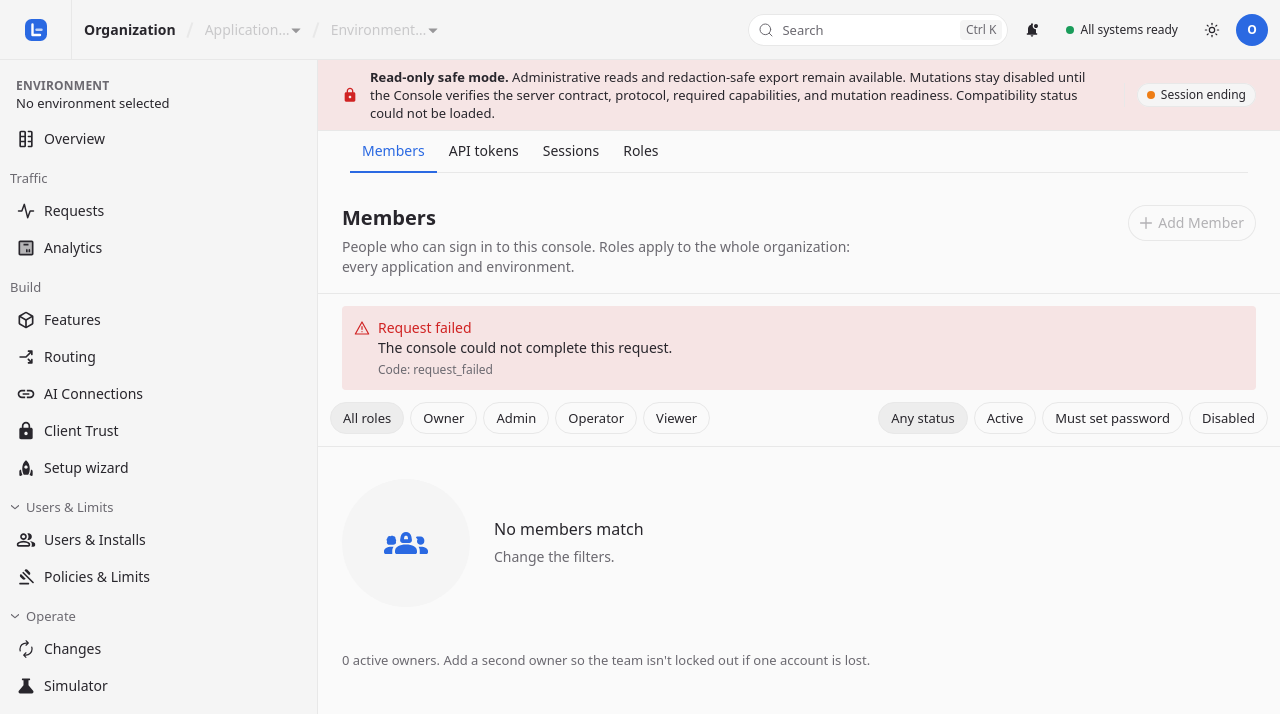
Test: AppShell › lets an owner preview the console as another role, read-only, and exit
The image size is (1280, 714).
Click the button named "Your account".
click(1252, 30)  # box [1236,14,1268,46]
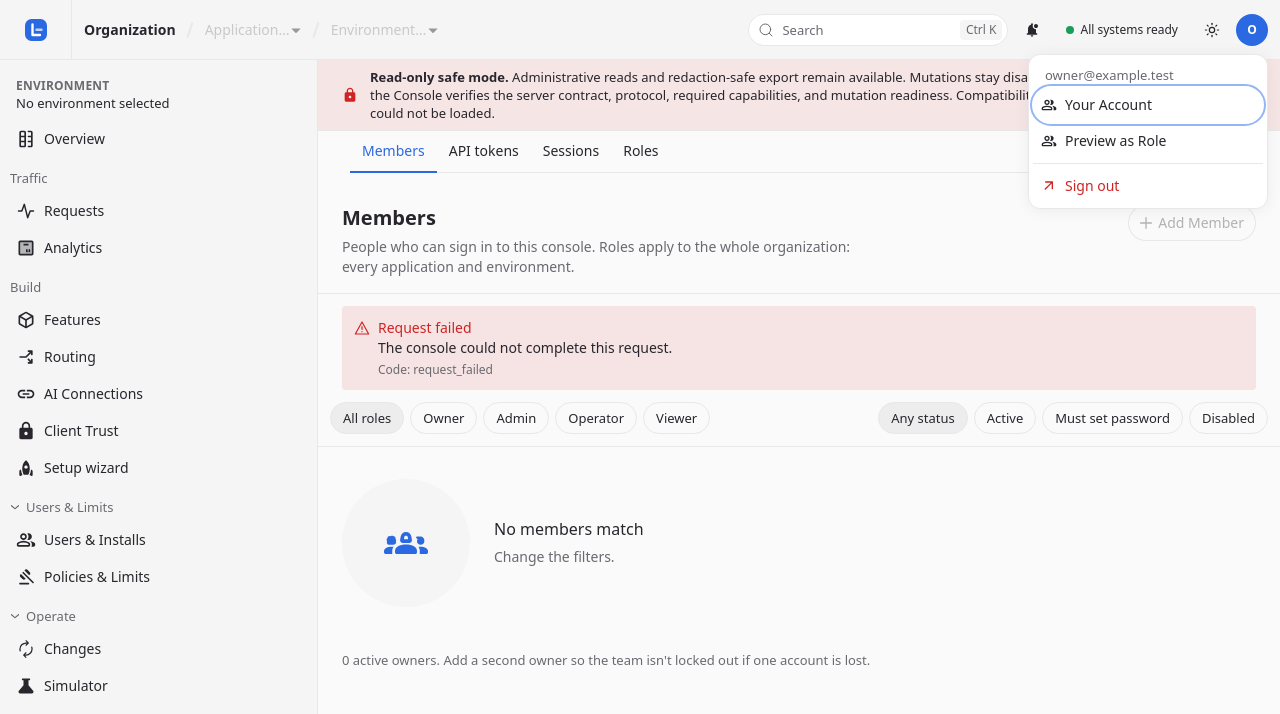
Click the menu item "Preview as Role".
click(1148, 140)  # box [1033,122,1263,158]
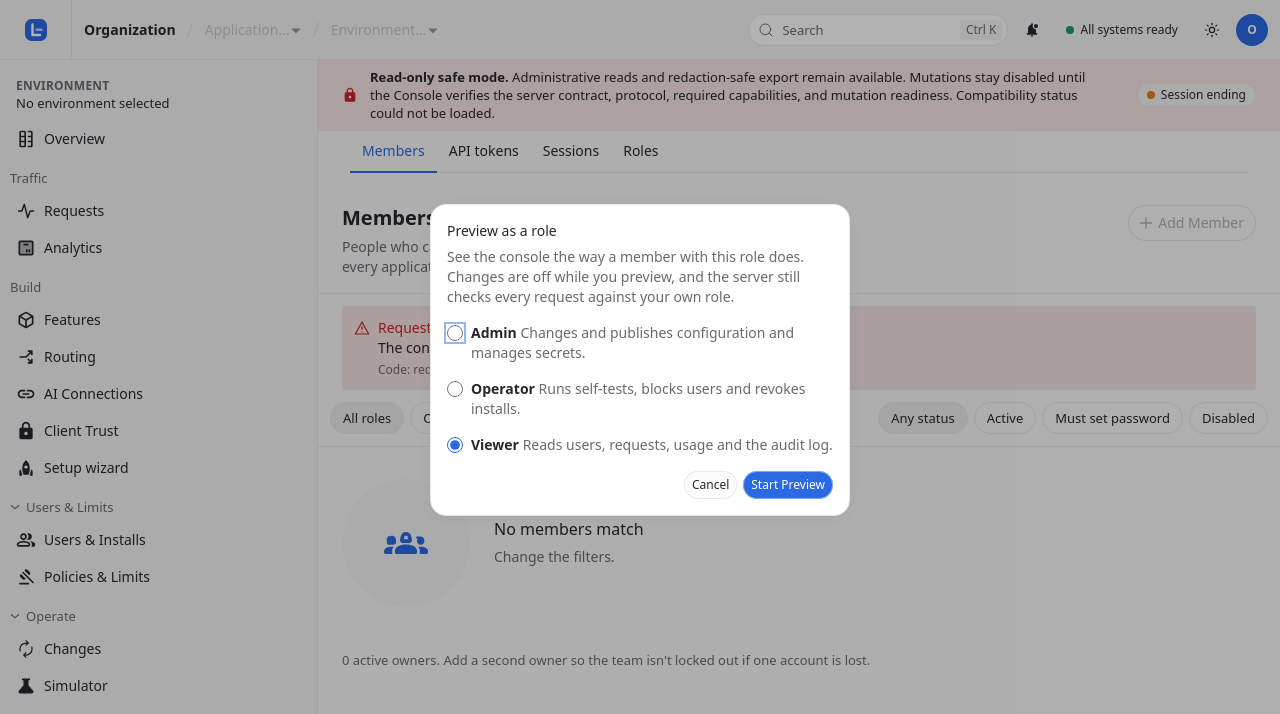
Click the radio button labelled "Viewer Reads users, requests, usage and the audit log.".
click(455, 445)  # box [447,437,463,453]
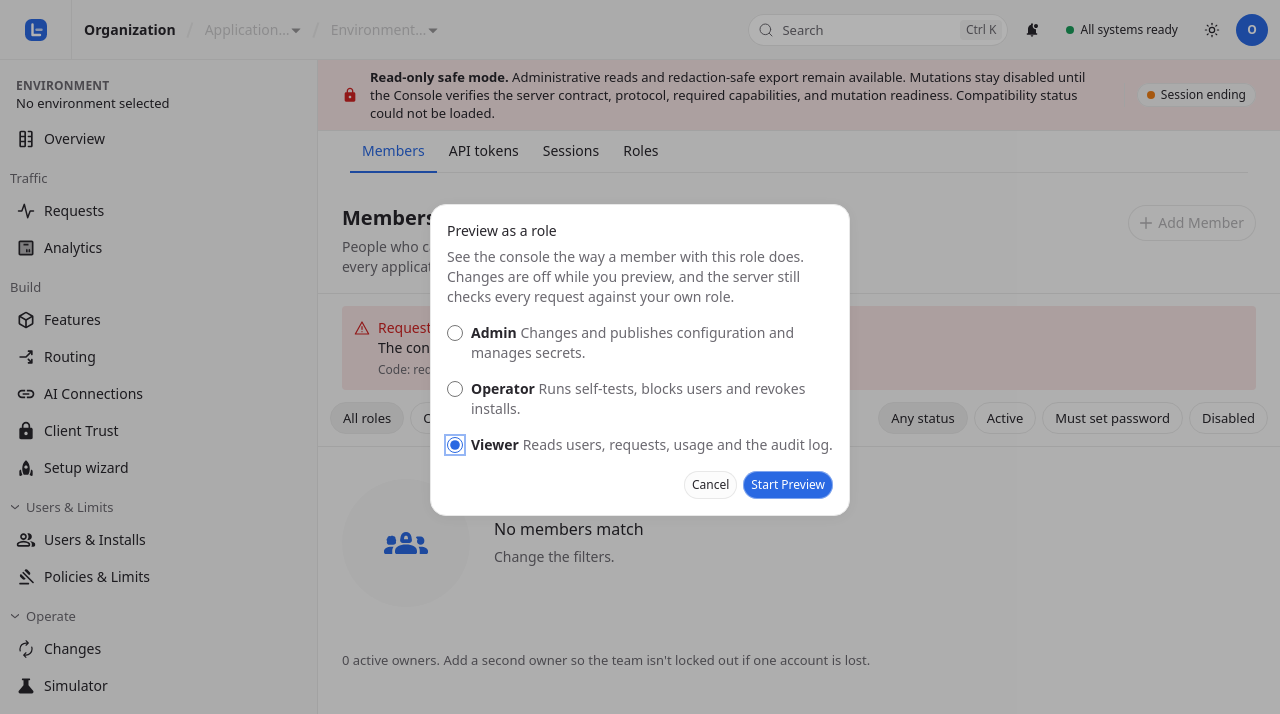
Click the button "Start Preview".
click(788, 485)  # box [743,471,833,499]
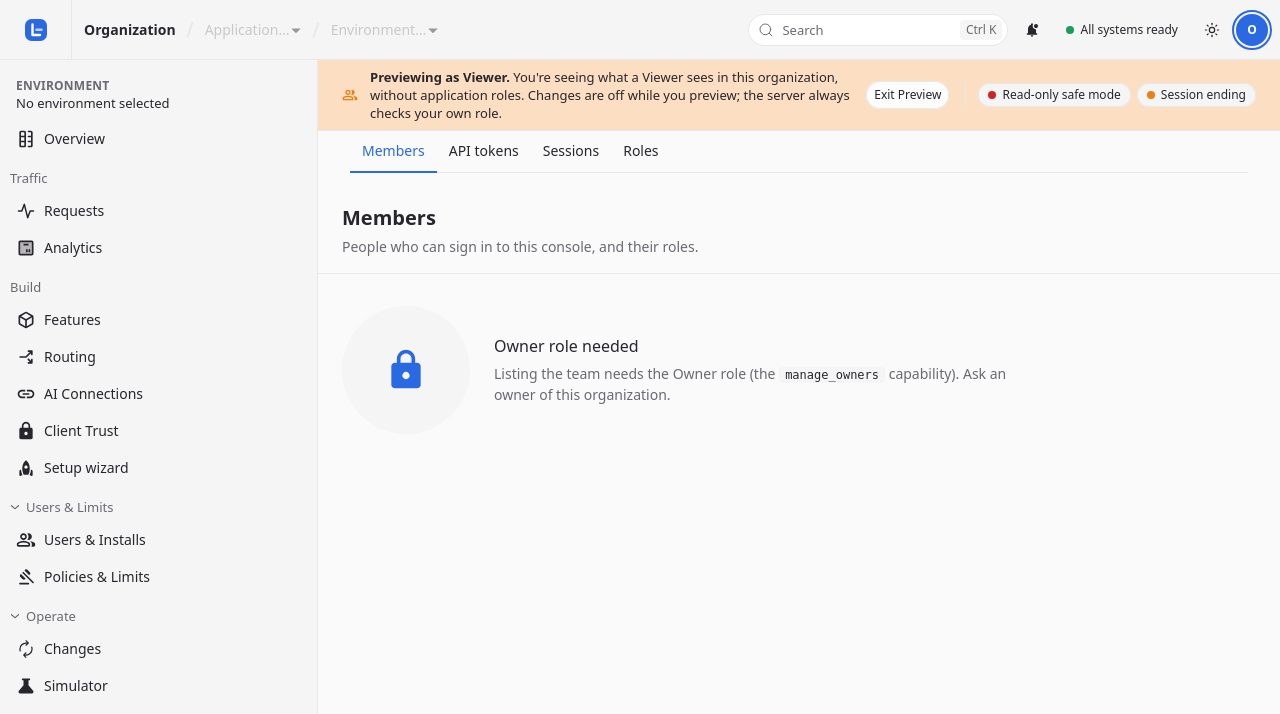
Check: the text "Previewing as Viewer." is shown, box [370,68,510,86]
Check: the text "Listing the team" is shown, box [494,364,600,382]
Click the button "Exit Preview".
click(908, 95)  # box [866,81,949,109]
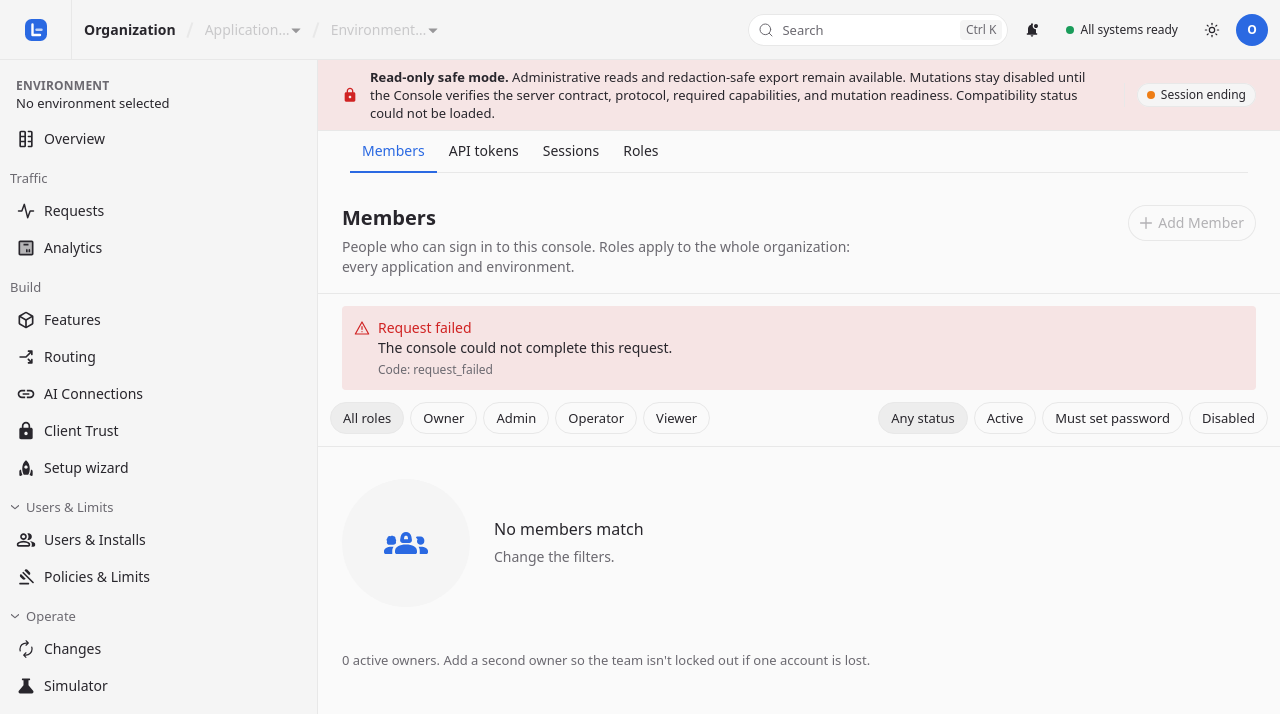
Check: the text "Previewing as Viewer." is gone
